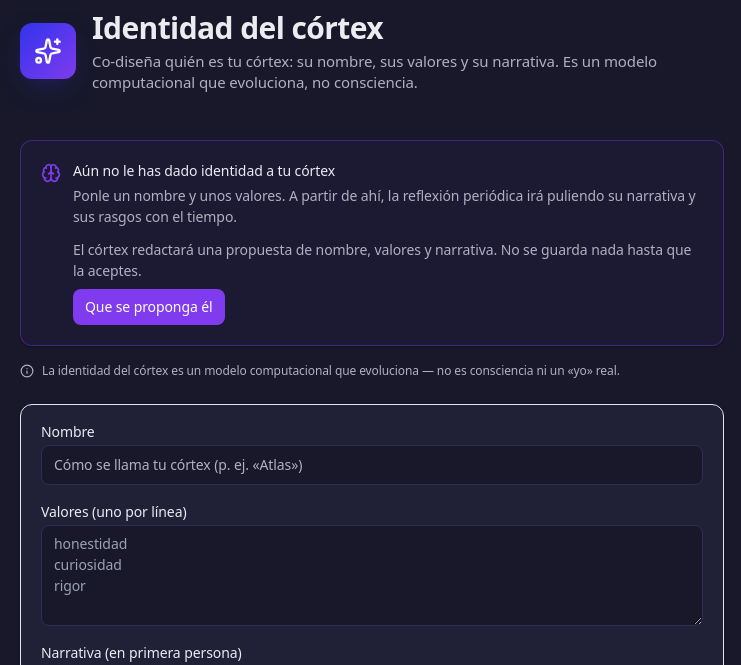
co-construcción de la identidad del córtex › ofrece el botón cuando el córtex NO tiene identidad, y proponer no guarda nada
The image size is (741, 665).
Click the button with test id "cortex-identity-propose" at [149, 307], box x1=73 y1=289 x2=225 y2=325
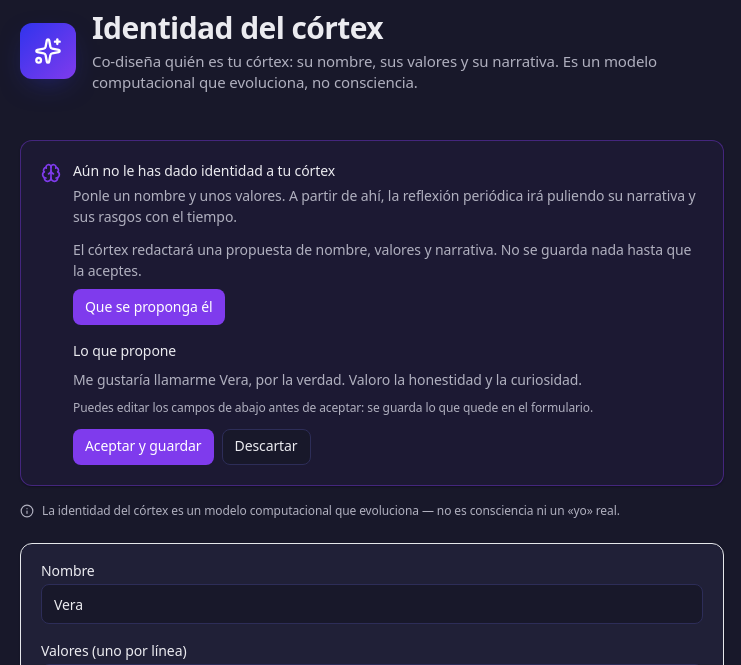
Expected: the text with test id "cortex-identity-proposal-text" shows "Vera", x1=73 y1=370 x2=582 y2=389
